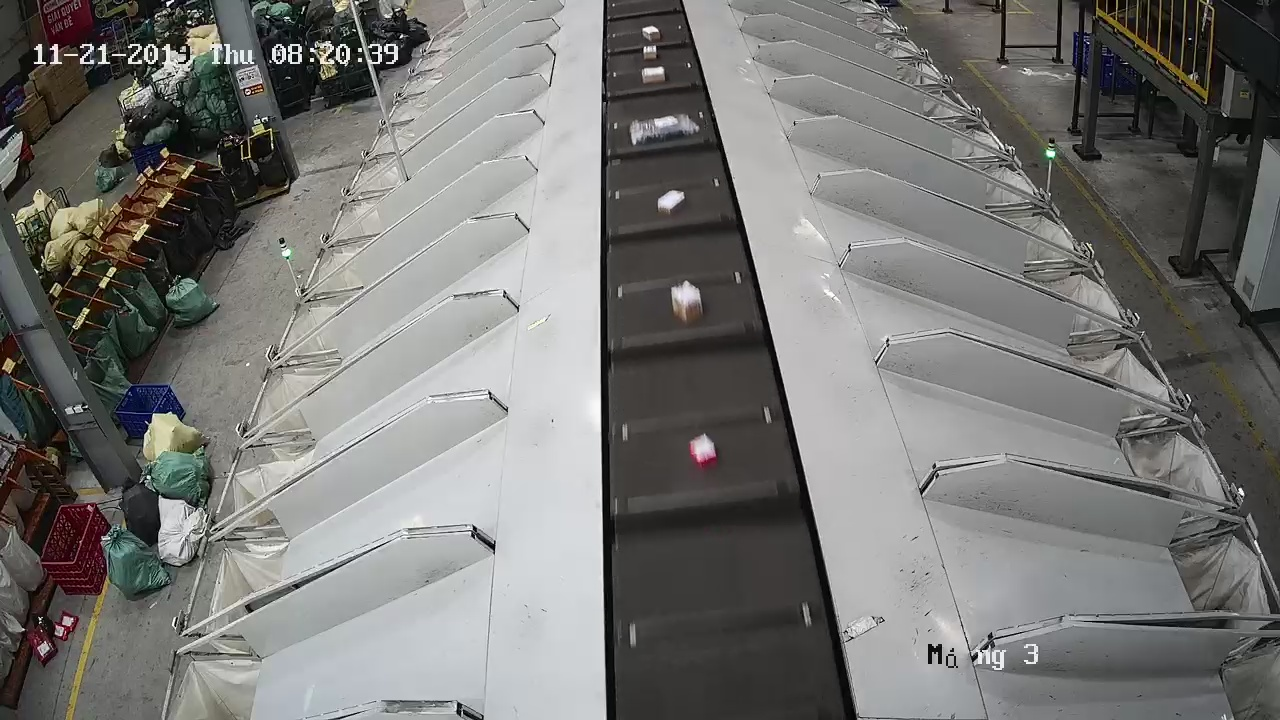parcel: (688, 432, 718, 475)
